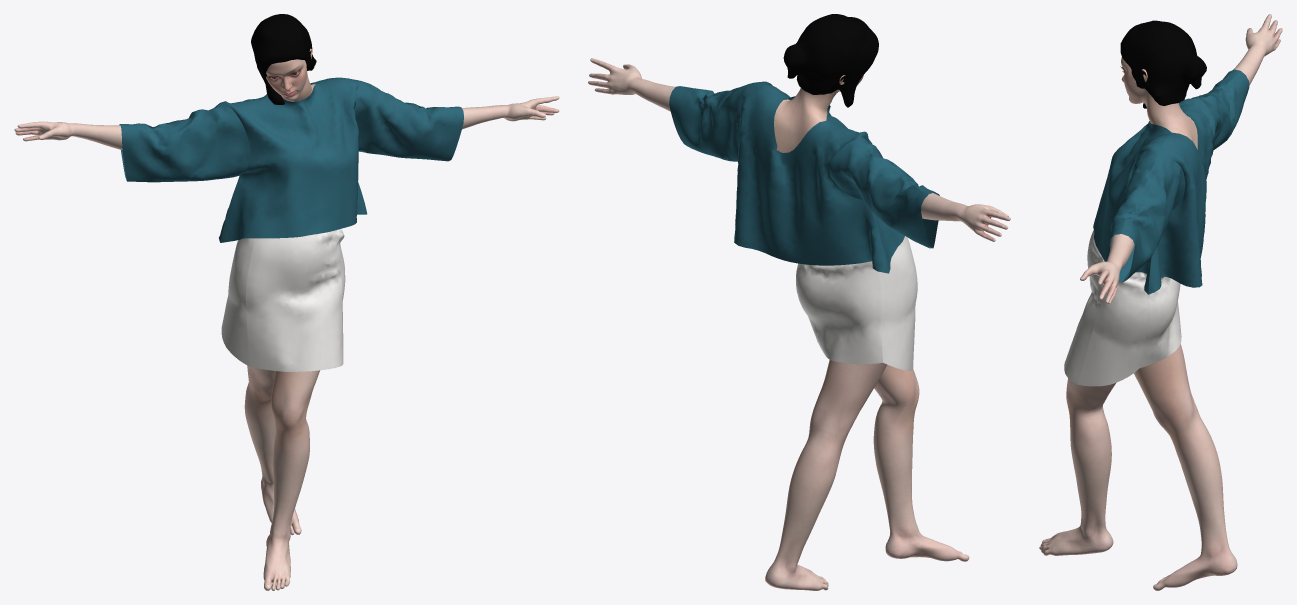
Rendered from Custom_View_5__Dynamic_2.obj.
3 views of the same model, side by side, from view 1: azimuth 30°, elevation 25°; view 2: azimuth 150°, elevation 25°; view 3: azimuth 270°, elevation 25° (orthographic). The views are drawn at different scales.
Bounding box in the file's own units: 1601 × 1717 × 679.
